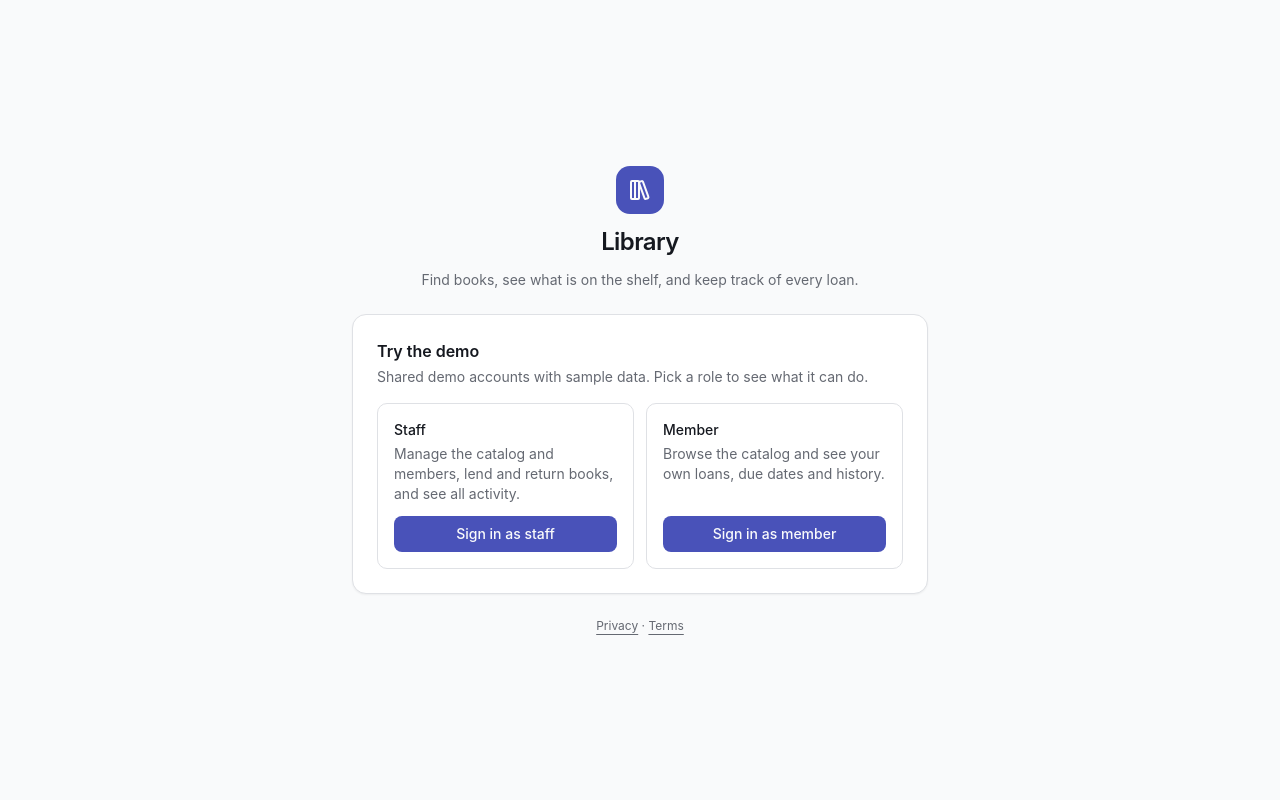
Test: SignInPage › signs in as the demo member and opens the catalog
Step 1. Click the button "Sign in as member" → {"x": 774, "y": 534}, box [663,516,886,552]
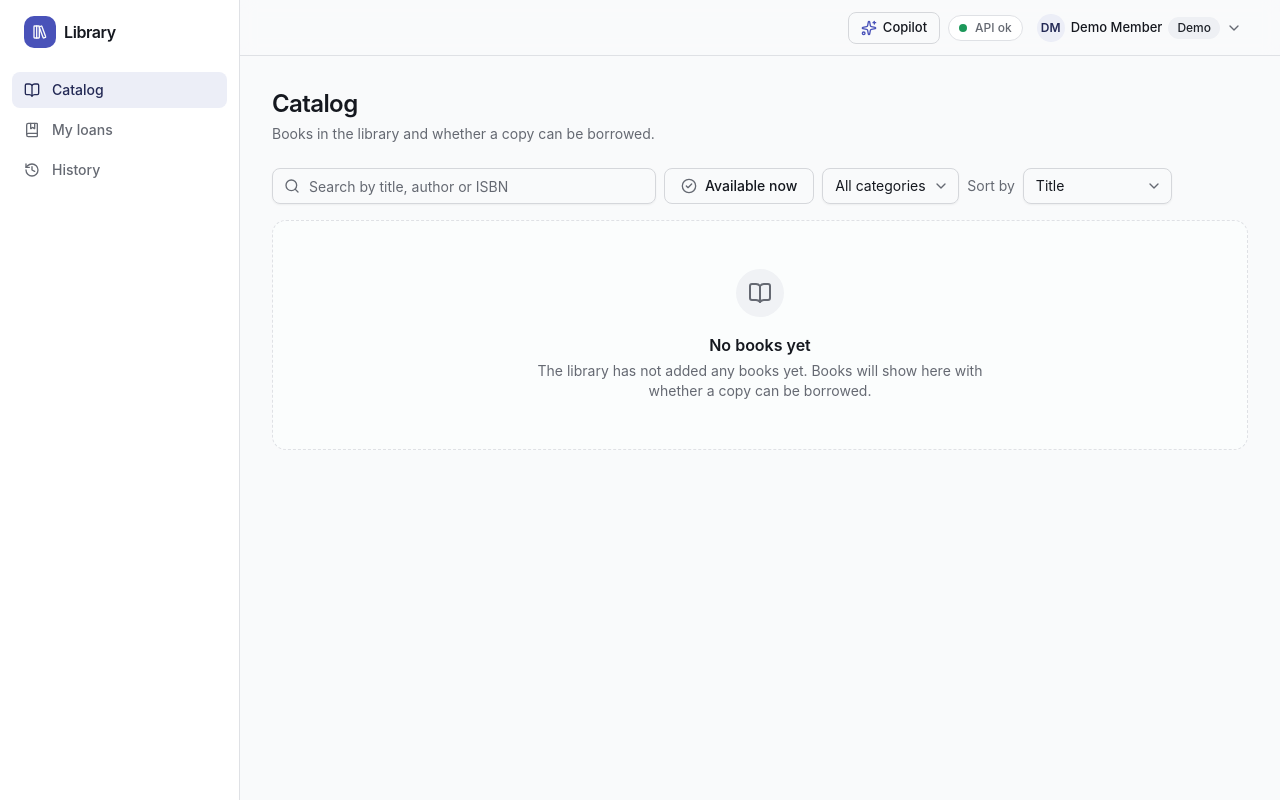
Expected: the heading "Catalog" is shown, [272,89,358,118]
Expected: the link "My loans" is shown, [24,121,113,138]
